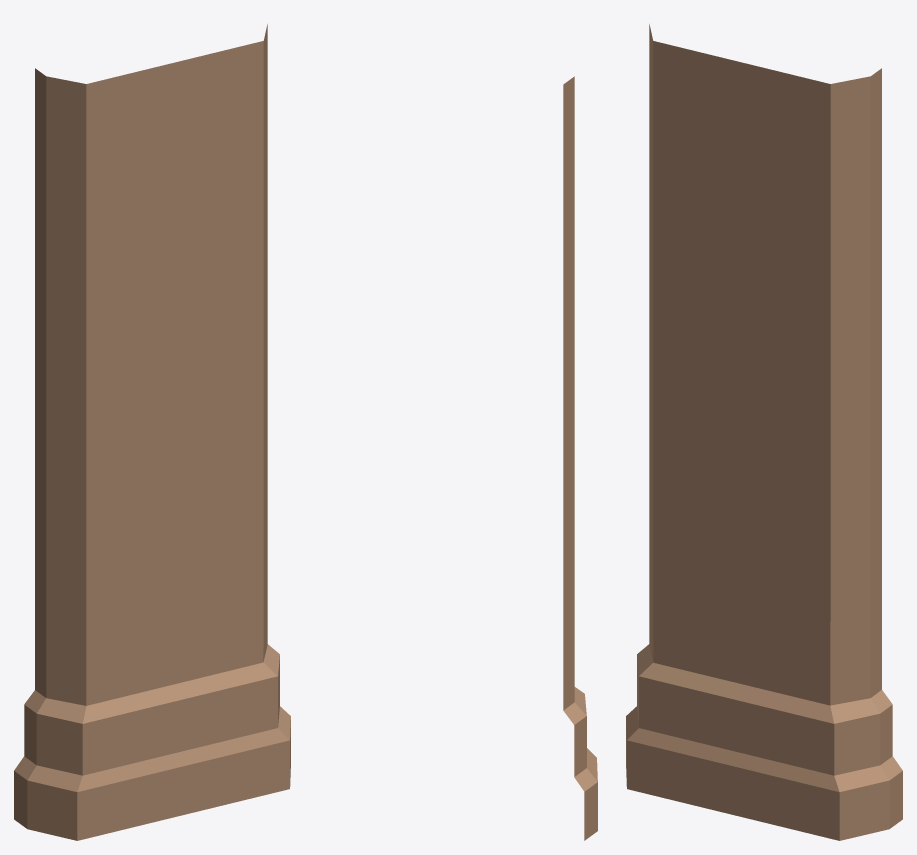
The model's file is env_block_brick_half_column_bottom.glb.
3 renders of one model, left to right at view 1: azimuth 30°, elevation 25°; view 2: azimuth 150°, elevation 25°; view 3: azimuth 330°, elevation 25°, orthographic.
Parts seen in each view (by area): view 1: Brick_HalfColumn_Bottom.gltf; view 2: Brick_HalfColumn_Bottom.gltf; view 3: Brick_HalfColumn_Bottom.gltf.
Boxes of the visible parts, box(x1,y1,x2,y2) form: Brick_HalfColumn_Bottom.gltf: box(14, 24, 290, 840); Brick_HalfColumn_Bottom.gltf: box(563, 76, 597, 840); Brick_HalfColumn_Bottom.gltf: box(626, 24, 902, 840).
Bounding box in the file's own units: 1.11 × 3 × 0.2763.
